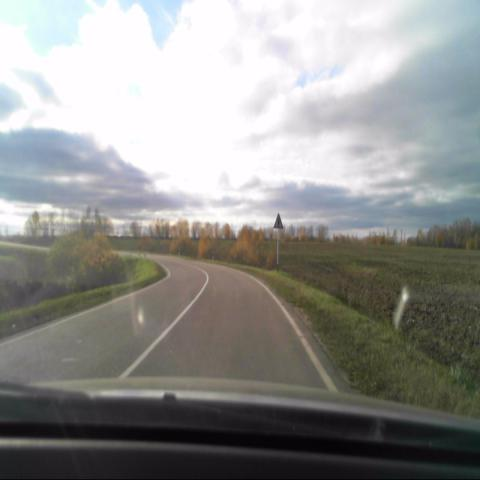2_3_2: (272, 211, 284, 231)
